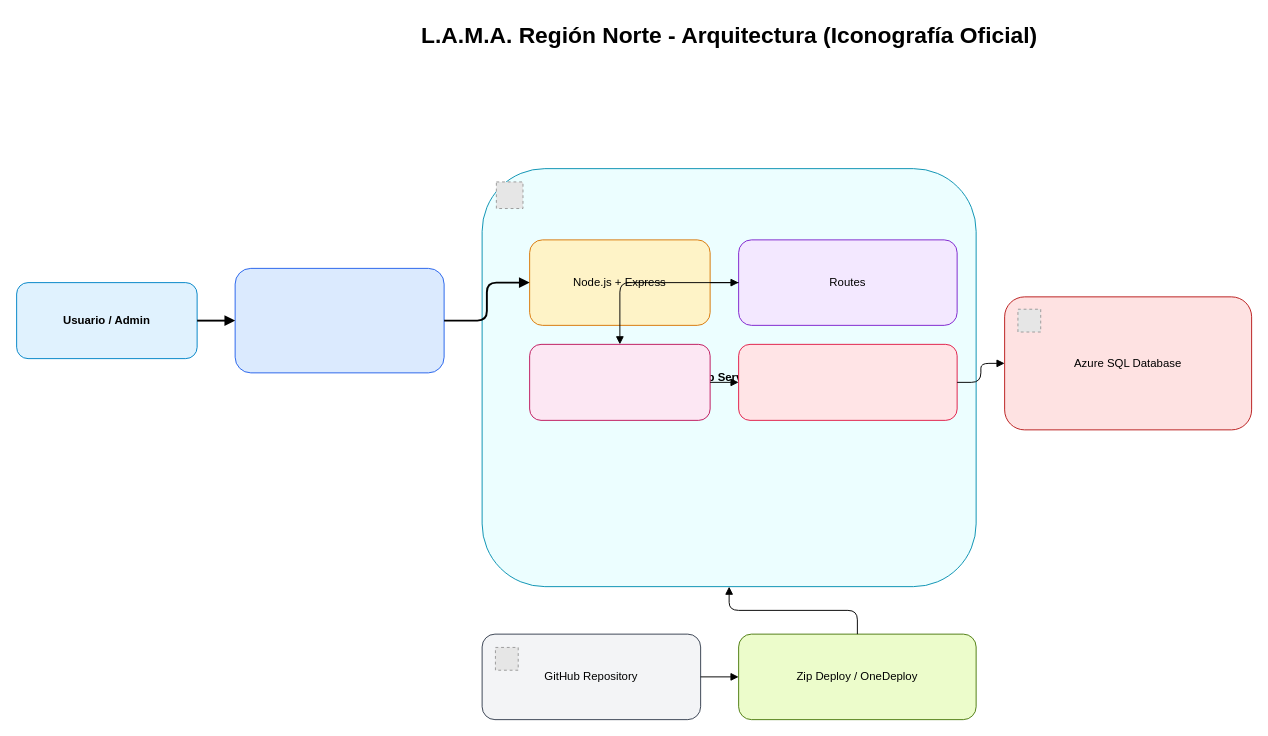
The diagram is 1268 pixels wide and 736 high, and some of its shapes have lost their labels. Grey dashed boxes stand in for pictures. The centre of each missing label's shape, as x and y in pixels:
"Controllers" belongs at (x=619, y=381).
"Navegador Web" belongs at (x=339, y=320).
"Services" belongs at (x=847, y=381).
